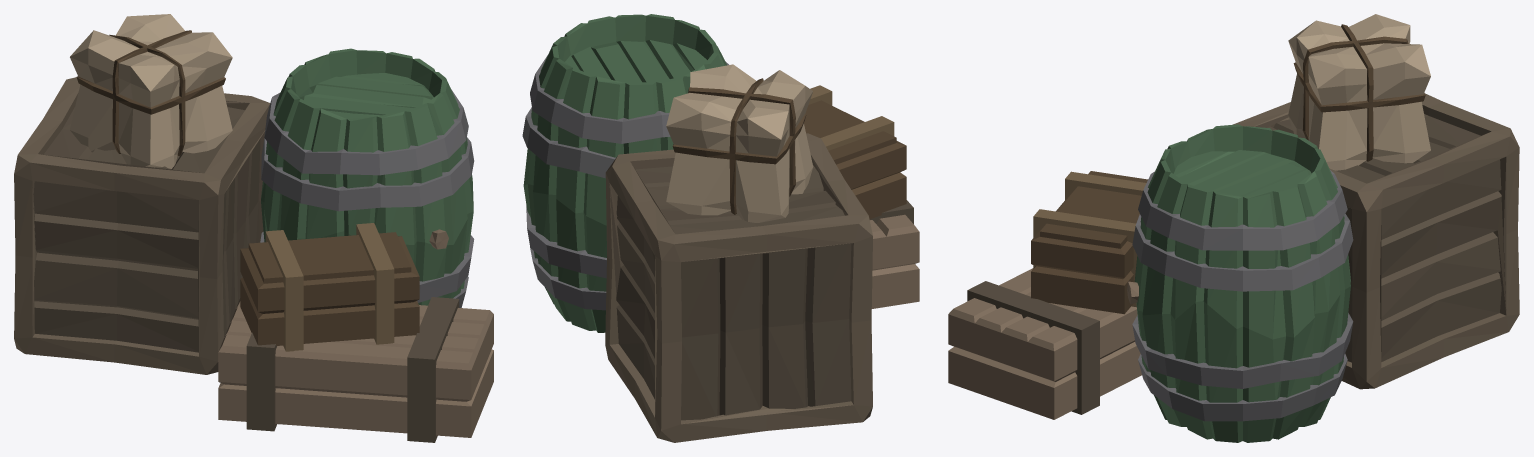
File: SM_Prop_Stack_04.glb
3 renders of one model, left to right at view 1: azimuth 30°, elevation 25°; view 2: azimuth 150°, elevation 25°; view 3: azimuth 270°, elevation 25°, orthographic. The views are drawn at different scales.
Visible parts, largest first — view 1: SM_Prop_Stack_04_part00; view 2: SM_Prop_Stack_04_part00; view 3: SM_Prop_Stack_04_part00.
Part boxes in pixels (x1=…): SM_Prop_Stack_04_part00: x1=14, y1=14, x2=493, y2=442; SM_Prop_Stack_04_part00: x1=522, y1=14, x2=919, y2=442; SM_Prop_Stack_04_part00: x1=948, y1=14, x2=1519, y2=442.
Size of the model in its own units: 1.76 by 1.24 by 2.22.
1 material, 1 textured.
